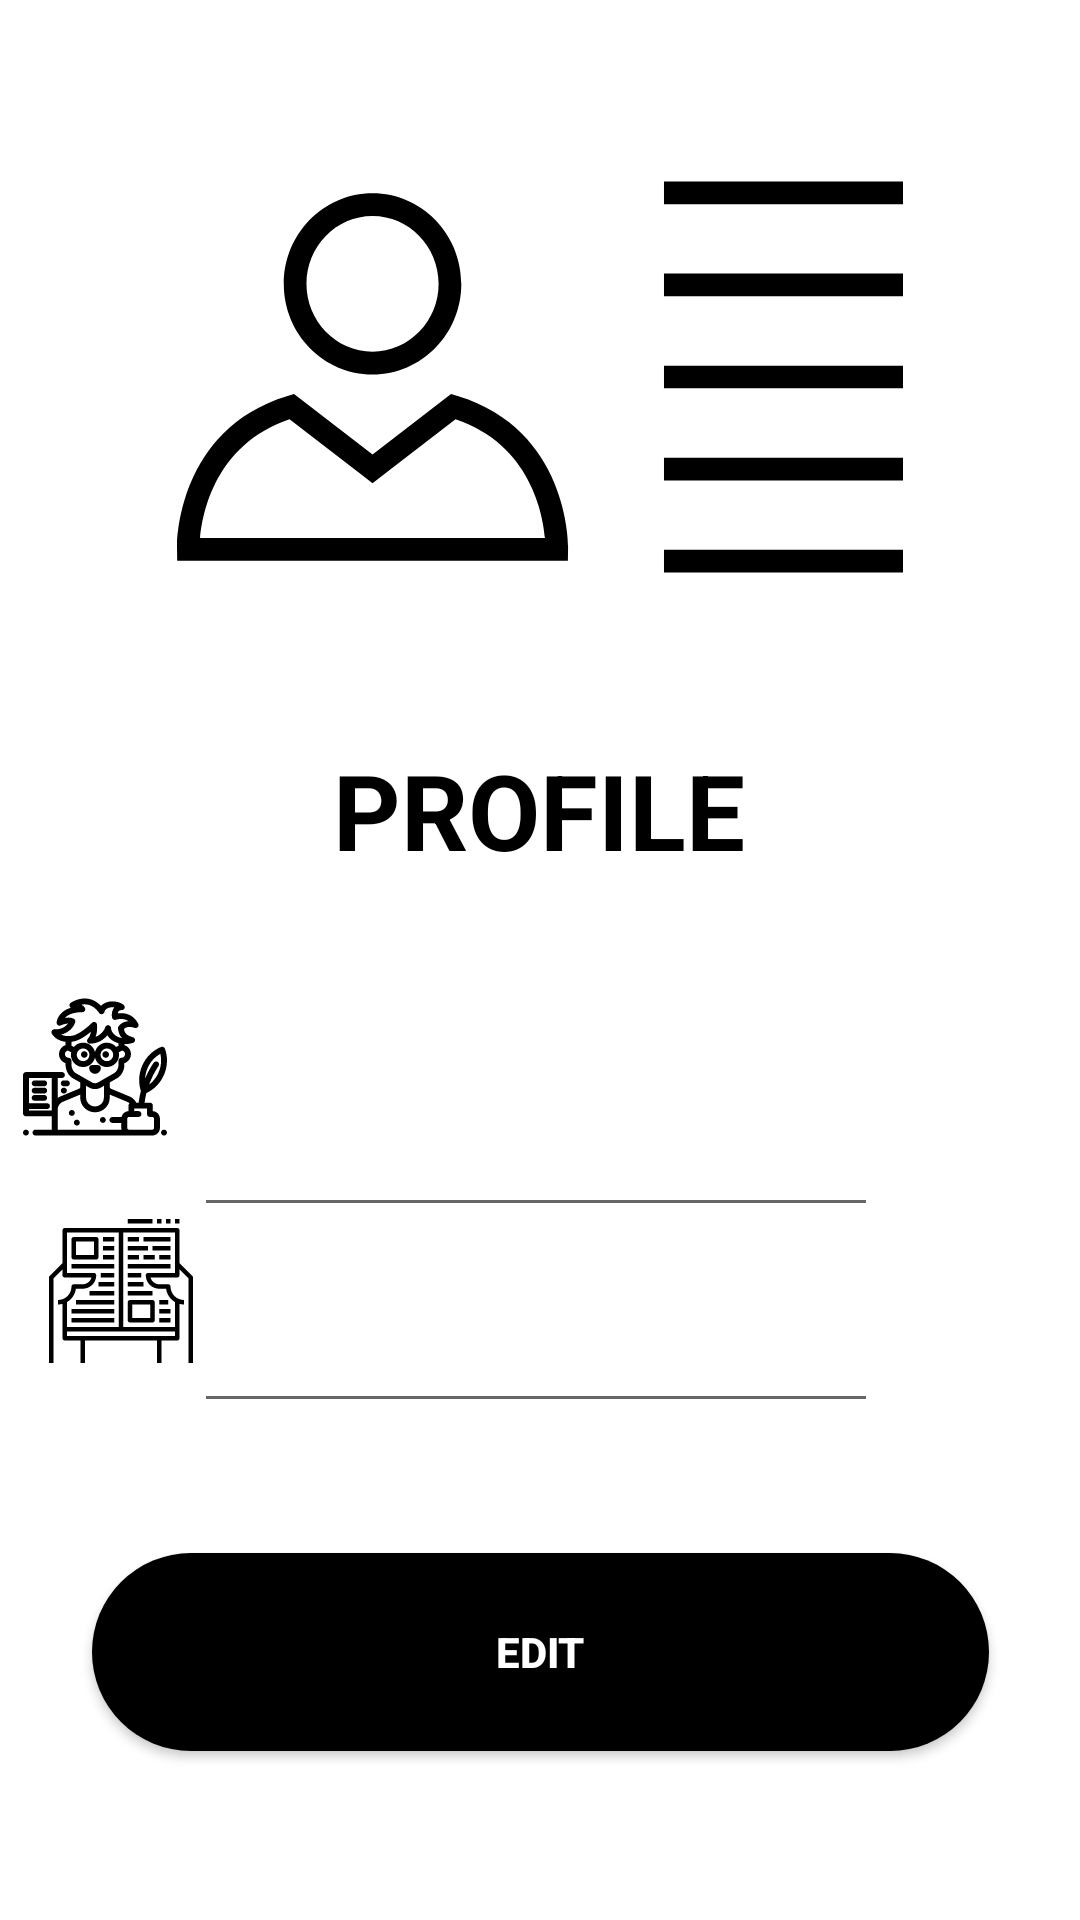

Point at icon controls on the screen. Image size 1080*1920, points as [x,y].
reading: [121,1291]
writer: [95,1067]
